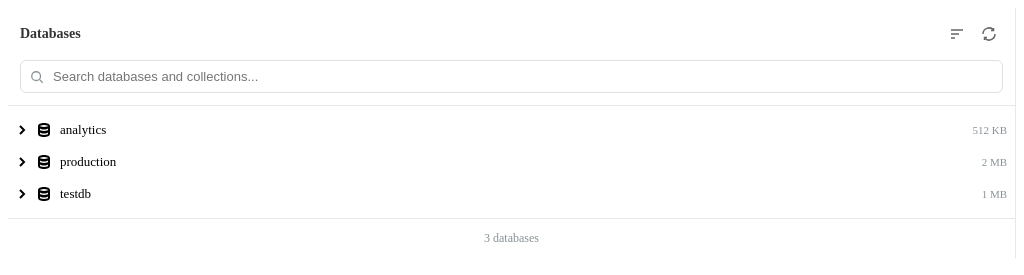
DatabaseBrowser › search functionality › clears search when clear button is clicked
Step 1. Type "test" into the field with test id "search-input" → (512, 76), box [20, 60, 1003, 93]
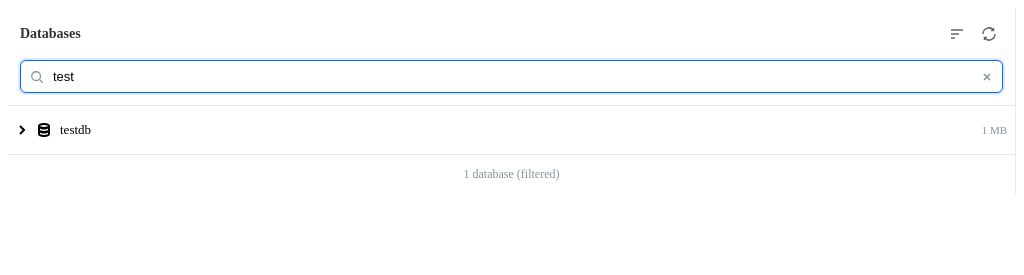
Step 2. Click the button with test id "clear-search" → (987, 76), box [977, 66, 997, 86]
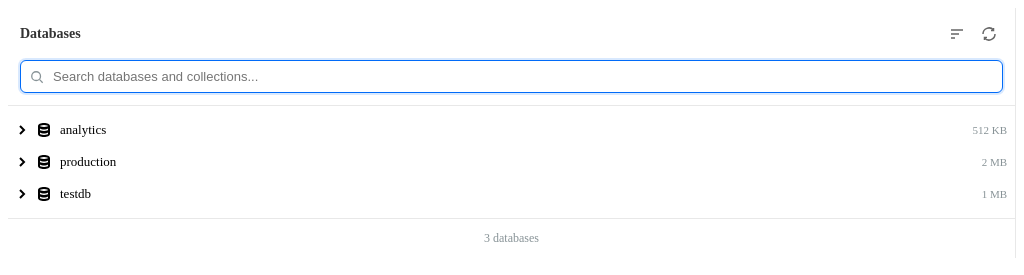
Result: the field with test id "search-input" is empty at [20, 60, 1003, 93]
Result: the text "3 databases" is shown at [8, 218, 1015, 258]
